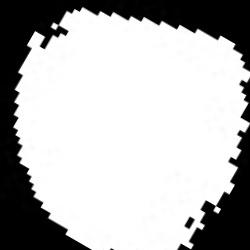spot: (14, 7, 250, 248)
